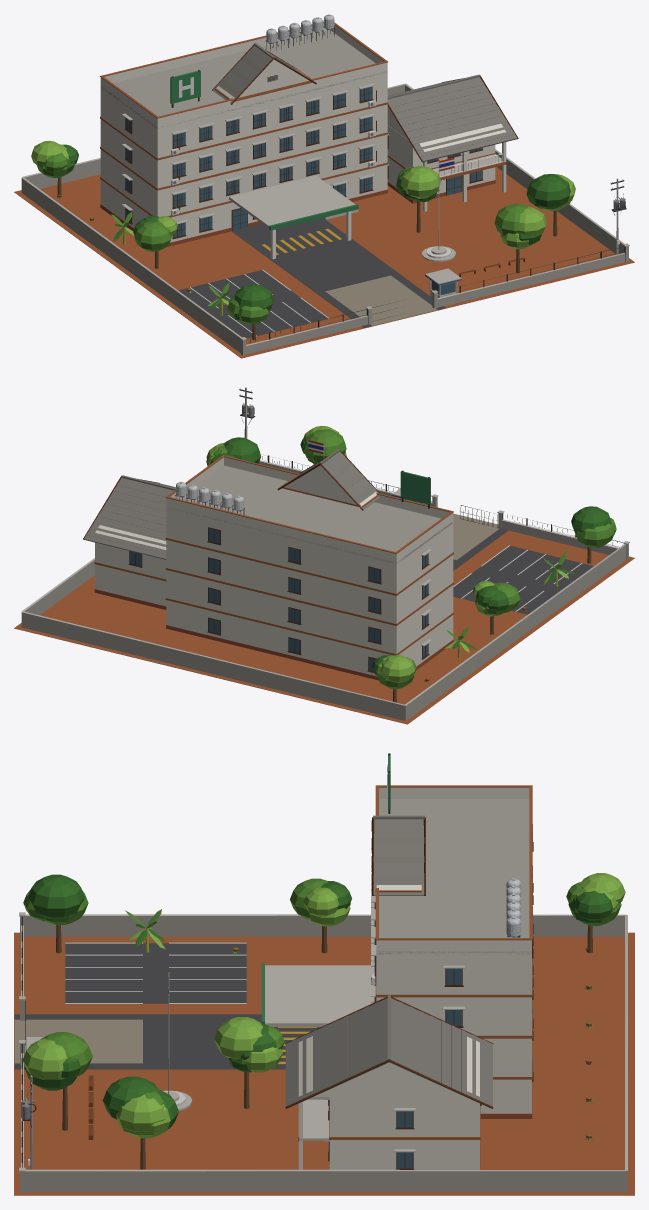
The model's file is hospital.glb.
3 renders of one model, top to bottom at view 1: azimuth 30°, elevation 25°; view 2: azimuth 150°, elevation 25°; view 3: azimuth 270°, elevation 25°, orthographic. The views are drawn at different scales.
Visible parts, largest first — view 1: body, windows; view 2: body, windows; view 3: body, windows.
Part boxes in pixels (box(x1,y1,x2,y2)): body: box(14, 14, 634, 358); windows: box(125, 75, 481, 295); body: box(14, 387, 634, 724); windows: box(130, 498, 428, 671); body: box(14, 753, 634, 1195); windows: box(328, 824, 532, 1168).
Size of the model in its own units: 47.9 by 19.55 by 47.9.
